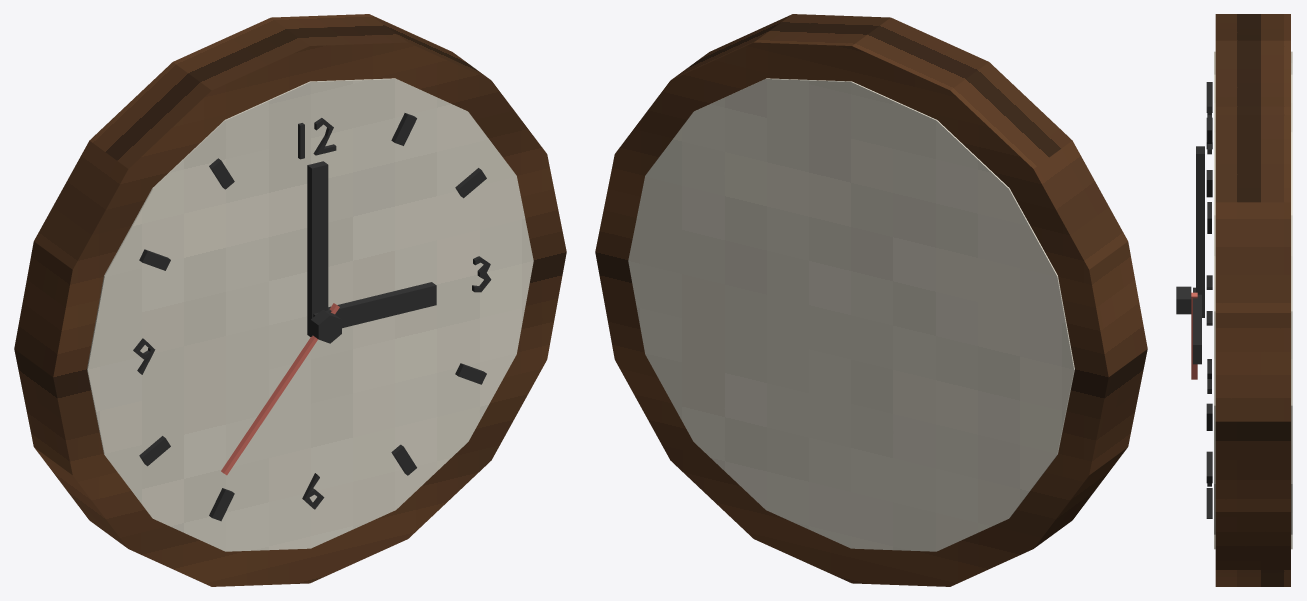
The model's file is wall_clock.glb.
3 views of the same model, side by side, from view 1: azimuth 30°, elevation 25°; view 2: azimuth 150°, elevation 25°; view 3: azimuth 270°, elevation 25° (orthographic). The views are drawn at different scales.
Visible parts, largest first — view 1: wall_clock; view 2: wall_clock; view 3: wall_clock.
Boxes of the visible parts, x1,y1,x2,y2 form: wall_clock: (14,14,566,586); wall_clock: (595,14,1147,586); wall_clock: (1176,14,1292,586).
Size of the model in its own units: 0.38 by 0.38 by 0.077.
4 materials, 2 textured.
